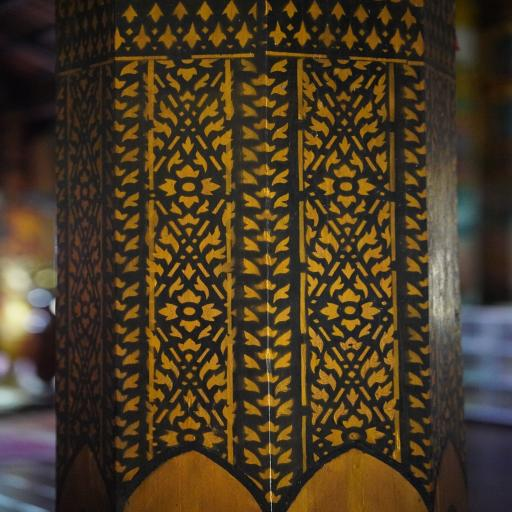hoa: (149, 288, 228, 336), (315, 160, 380, 210), (318, 287, 385, 331), (152, 161, 218, 205), (322, 410, 389, 452), (155, 413, 227, 451), (312, 52, 374, 84), (156, 54, 215, 85)
